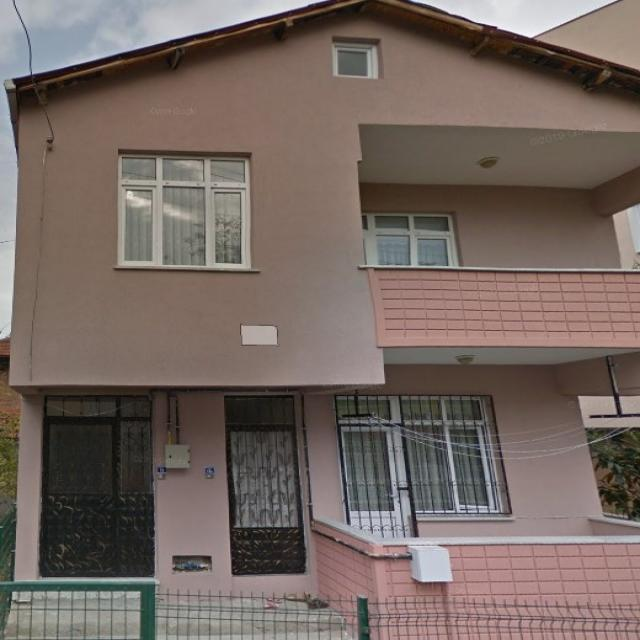Building: (2, 0, 640, 640)
